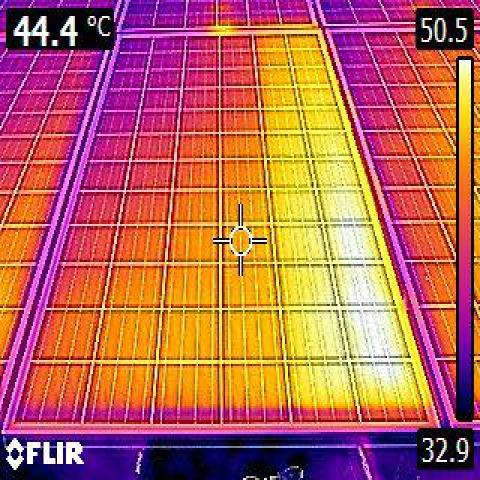fault: (257, 39, 417, 417)
